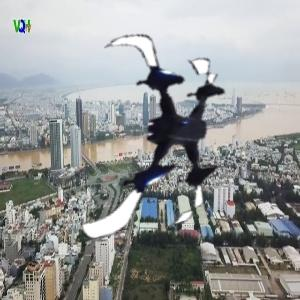drone: (55, 27, 261, 233)
